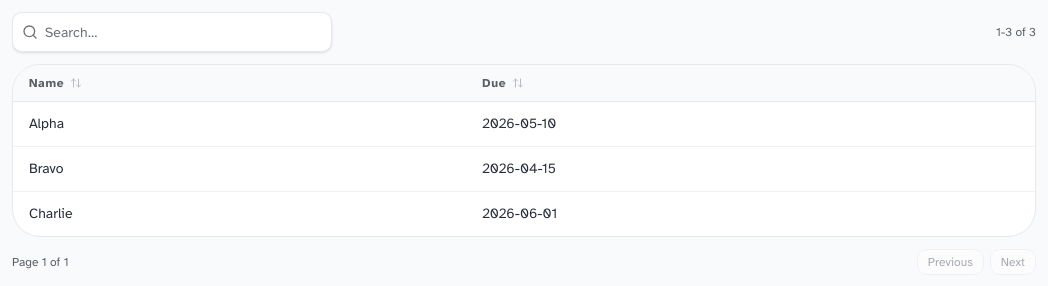
Test: DataTable › filters rows via the accessible text input
The width and height of the screenshot is (1048, 286).
Type "brav" into the field named "Filter rows" at x=172, y=32, box [12, 12, 332, 52]
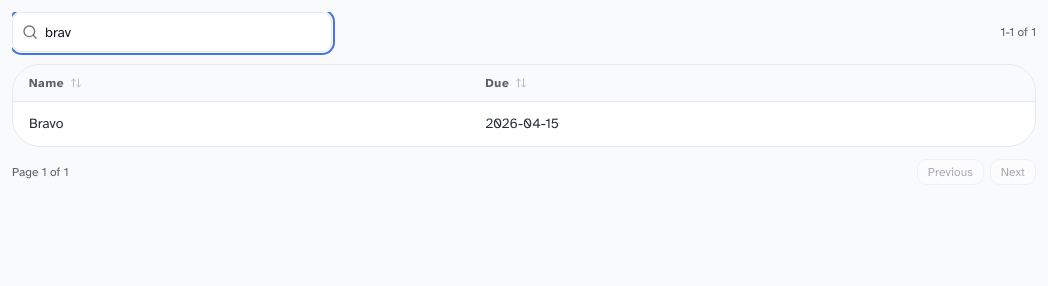
Expected: the text "Alpha" is gone
Expected: the text "Charlie" is gone
Expected: the text "1-1 of 1" is shown, [1001, 24, 1036, 40]
